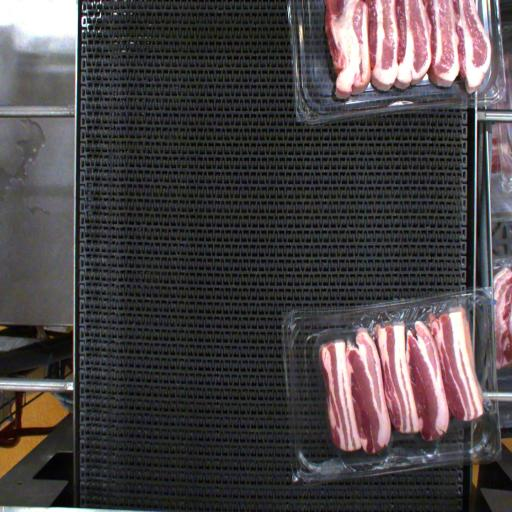unsealed: (310, 292, 484, 360)
